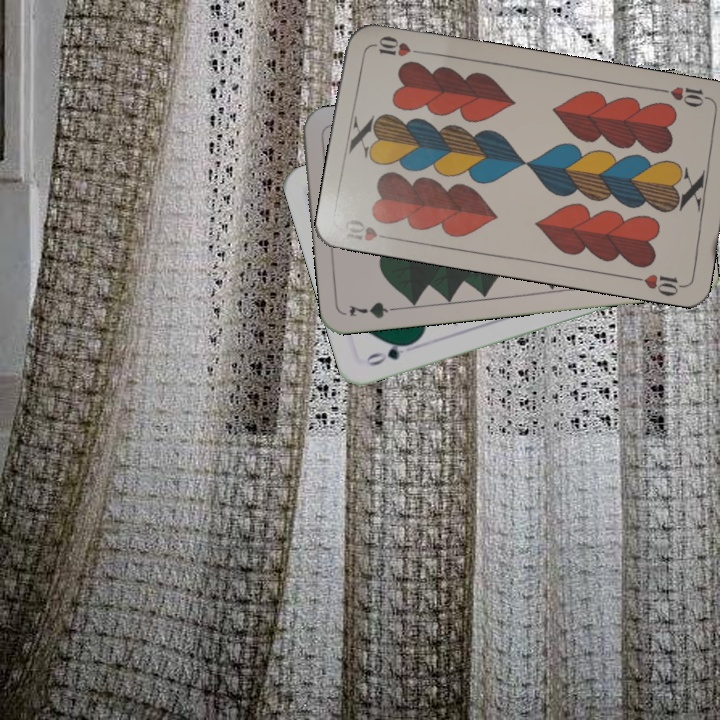G7: (345, 298, 404, 321)
GO: (362, 337, 417, 369)
H10: (339, 215, 398, 244), (657, 82, 715, 110)
